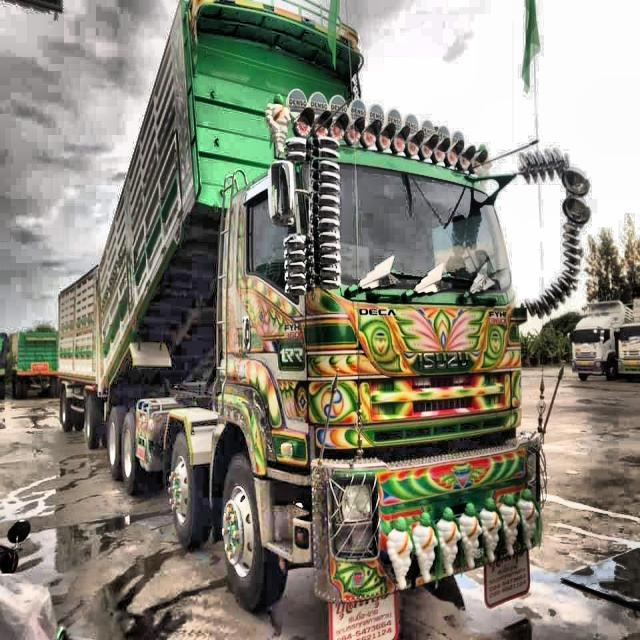trailer: (48, 0, 560, 626)
